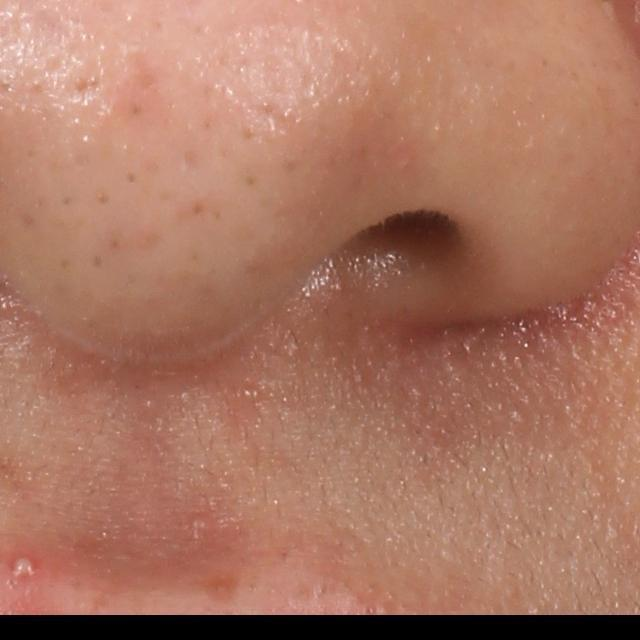pustule: (4, 553, 40, 587), (188, 514, 213, 534)
